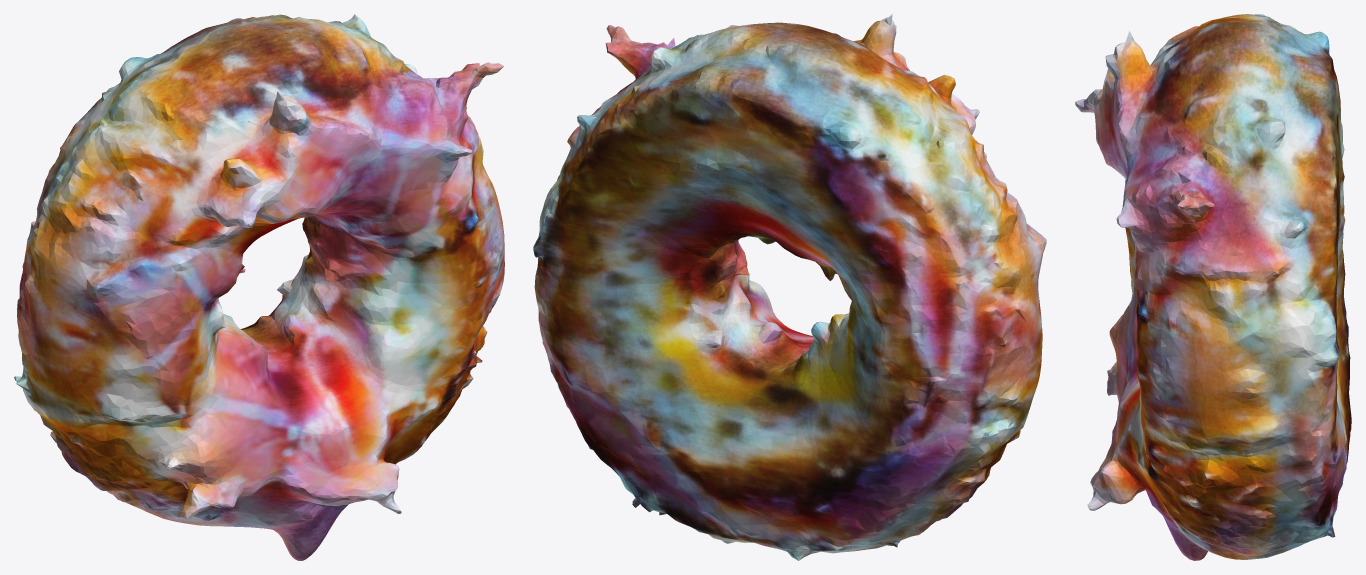
Rendered from a DSLR photo of a bagel filled with cream cheese and lox.glb.
3 renders of one model, left to right at view 1: azimuth 30°, elevation 25°; view 2: azimuth 150°, elevation 25°; view 3: azimuth 270°, elevation 25°, orthographic. The views are drawn at different scales.
Bounding box in the file's own units: 1.34 × 1.45 × 0.7071.
1 material, 1 textured.
